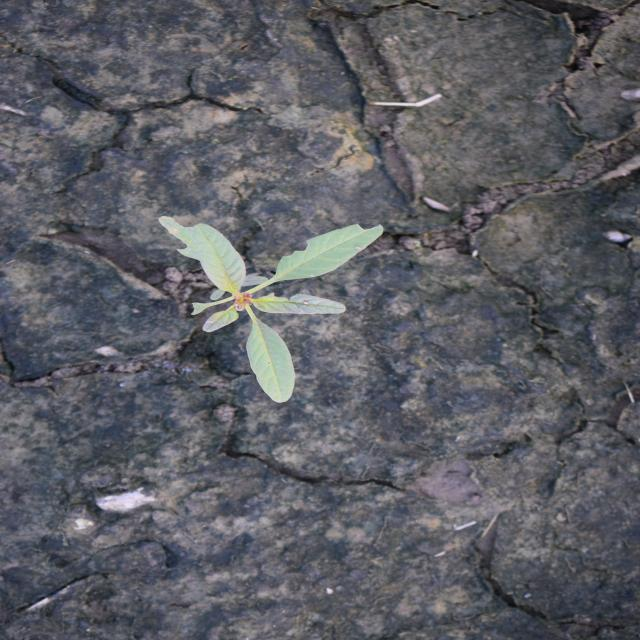Waterhemp: (154, 213, 388, 405)
